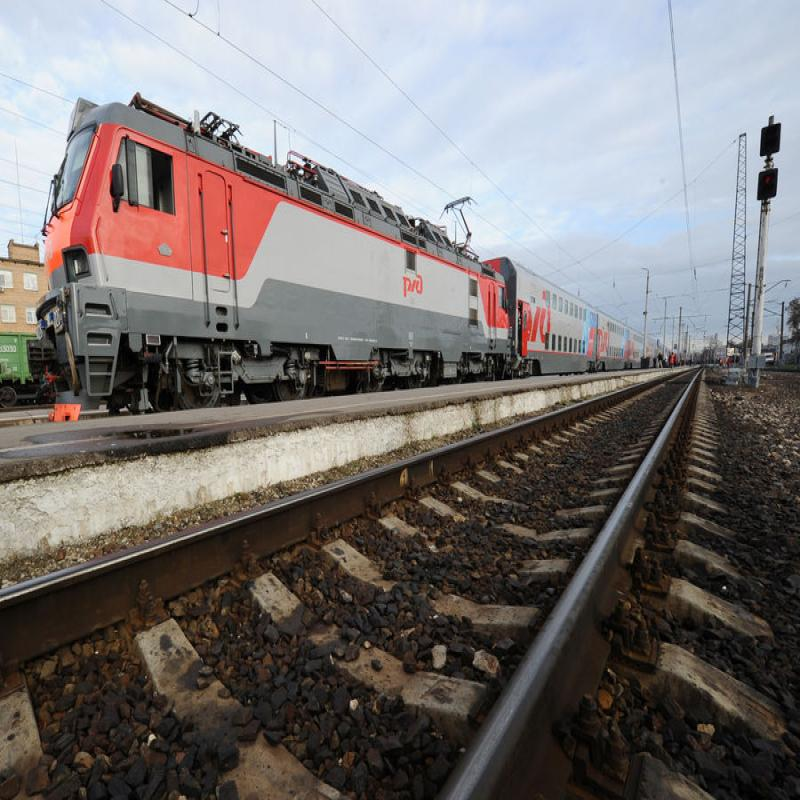train: (12, 113, 523, 451), (490, 263, 605, 394)
